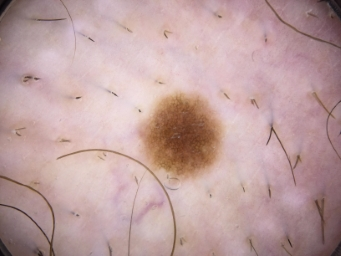melanoma: (139, 97, 223, 177)
